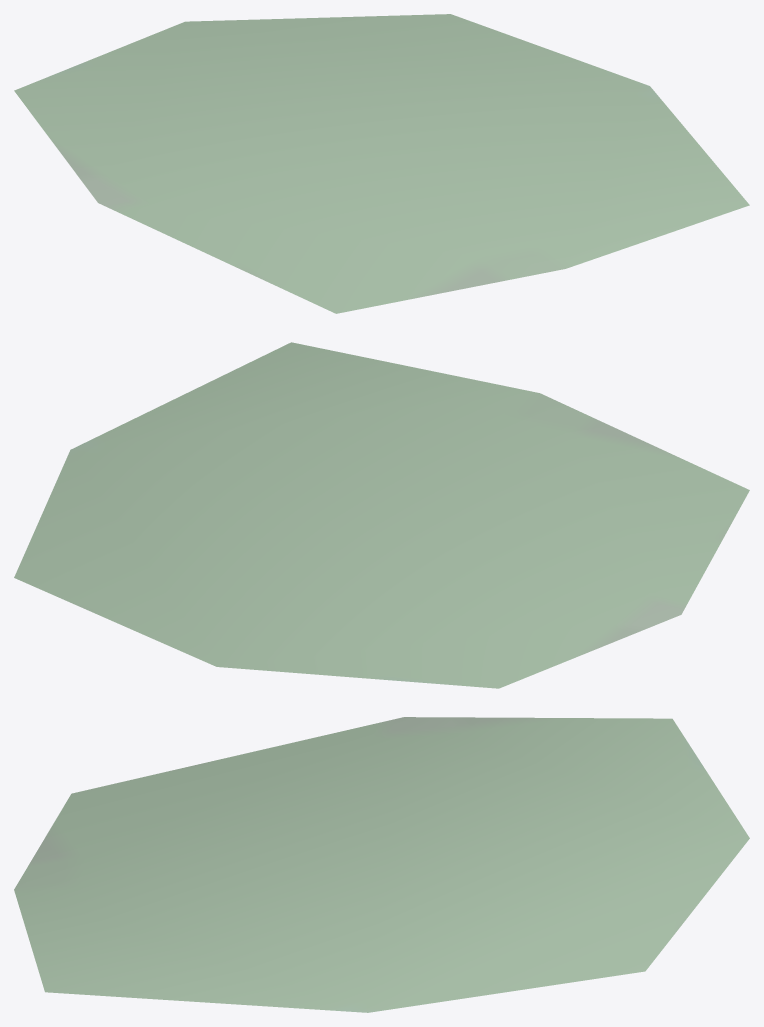
File: TROLLHOLE02_HOLECAP02.fbx
The picture shows the model from 3 angles, top to bottom: view 1: azimuth 30°, elevation 25°; view 2: azimuth 150°, elevation 25°; view 3: azimuth 270°, elevation 25°; orthographic projection. The views are drawn at different scales.
Visible parts, largest first — view 1: TROLLHOLE02_HOLECAP02; view 2: TROLLHOLE02_HOLECAP02; view 3: TROLLHOLE02_HOLECAP02.
Part boxes in pixels (x1,y1,x2,y2): TROLLHOLE02_HOLECAP02: (14,14,749,313); TROLLHOLE02_HOLECAP02: (14,342,749,688); TROLLHOLE02_HOLECAP02: (14,717,749,1012).
Size of the model in its own units: 26009 by 1874 by 27571.
Materials: 1 (1 with a texture image).
